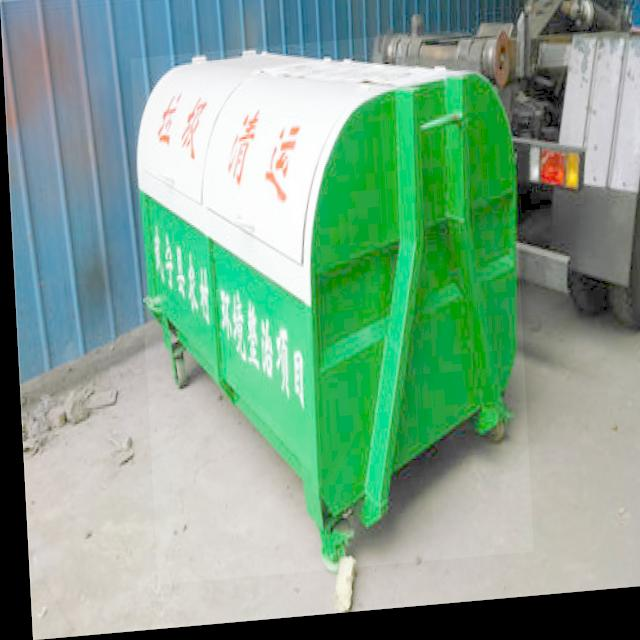garbage_bin: (130, 35, 527, 587)
